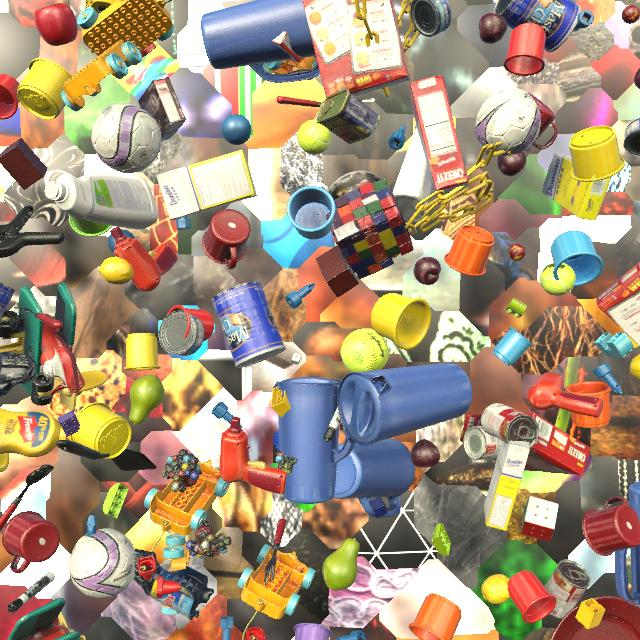ycb_002_master_chef_can: (211, 281, 286, 368), (493, 0, 581, 53), (0, 282, 15, 319)
ycb_003_cracker_box: (302, 0, 410, 100), (460, 413, 590, 475), (410, 75, 469, 199), (596, 262, 640, 346)
ycb_004_sugar_box: (156, 150, 257, 220), (542, 153, 610, 221), (484, 441, 530, 531)
ycb_005_tomato_soup_can: (545, 559, 591, 619), (481, 403, 539, 447), (463, 426, 502, 460)
ycb_006_mustard_bottle: (0, 408, 70, 457)
ycb_007_tuna_fish_can: (159, 311, 205, 356), (410, 0, 451, 37), (624, 118, 640, 157)
ycb_008_pudding_box: (138, 77, 186, 141)
ycb_009_gelatin_box: (272, 31, 301, 62)
ycb_010_potted_meat_can: (315, 89, 380, 144)
ycb_013_apple: (34, 3, 78, 46)
ycb_014_lemon: (98, 257, 134, 285), (481, 574, 511, 604), (630, 354, 640, 380)
ycb_016_pear: (322, 538, 360, 591), (129, 374, 165, 425)
ycb_018_plum: (479, 13, 507, 44), (411, 439, 440, 468), (414, 257, 441, 285), (497, 152, 527, 176), (634, 68, 640, 89)
